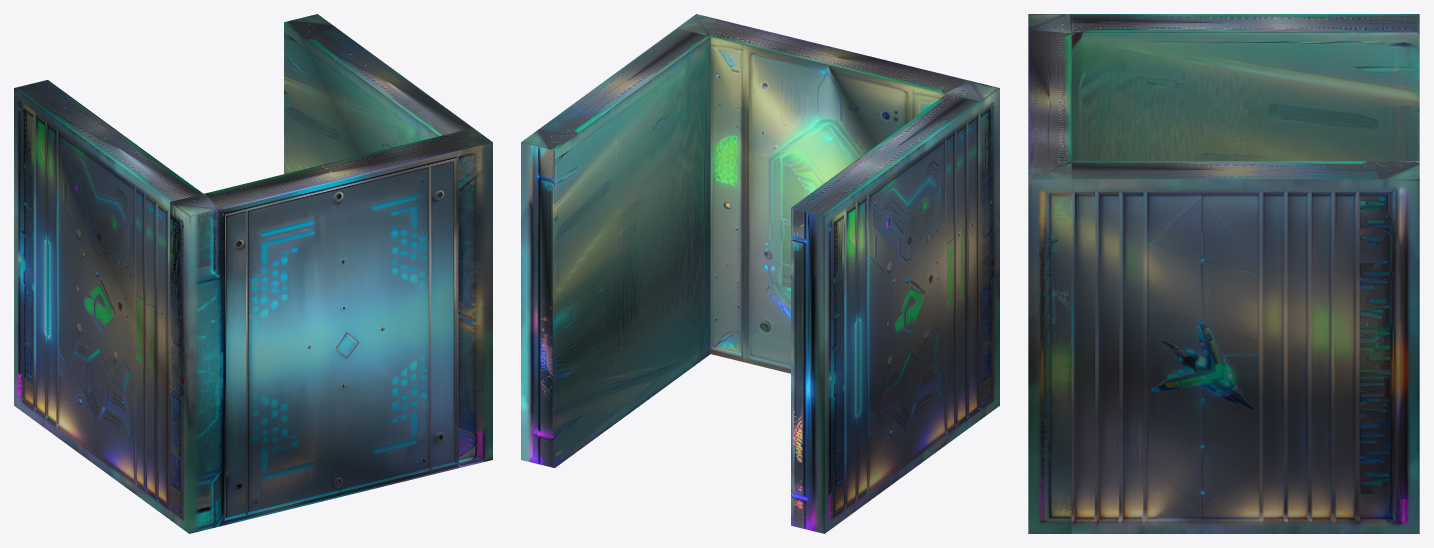
File: residentialBasicWall3.glb
The picture shows the model from 3 angles, left to right: view 1: azimuth 30°, elevation 25°; view 2: azimuth 150°, elevation 25°; view 3: azimuth 270°, elevation 25°; orthographic projection. The views are drawn at different scales.
Parts seen in each view (by area): view 1: residentialBasicWall3; view 2: residentialBasicWall3; view 3: residentialBasicWall3.
Boxes of the visible parts, x1,y1,x2,y2 form: residentialBasicWall3: [14, 14, 492, 533]; residentialBasicWall3: [521, 14, 999, 533]; residentialBasicWall3: [1028, 14, 1419, 533].
Bounding box in the file's own units: 1 × 1 × 1.
Materials: 1 (1 with a texture image).
